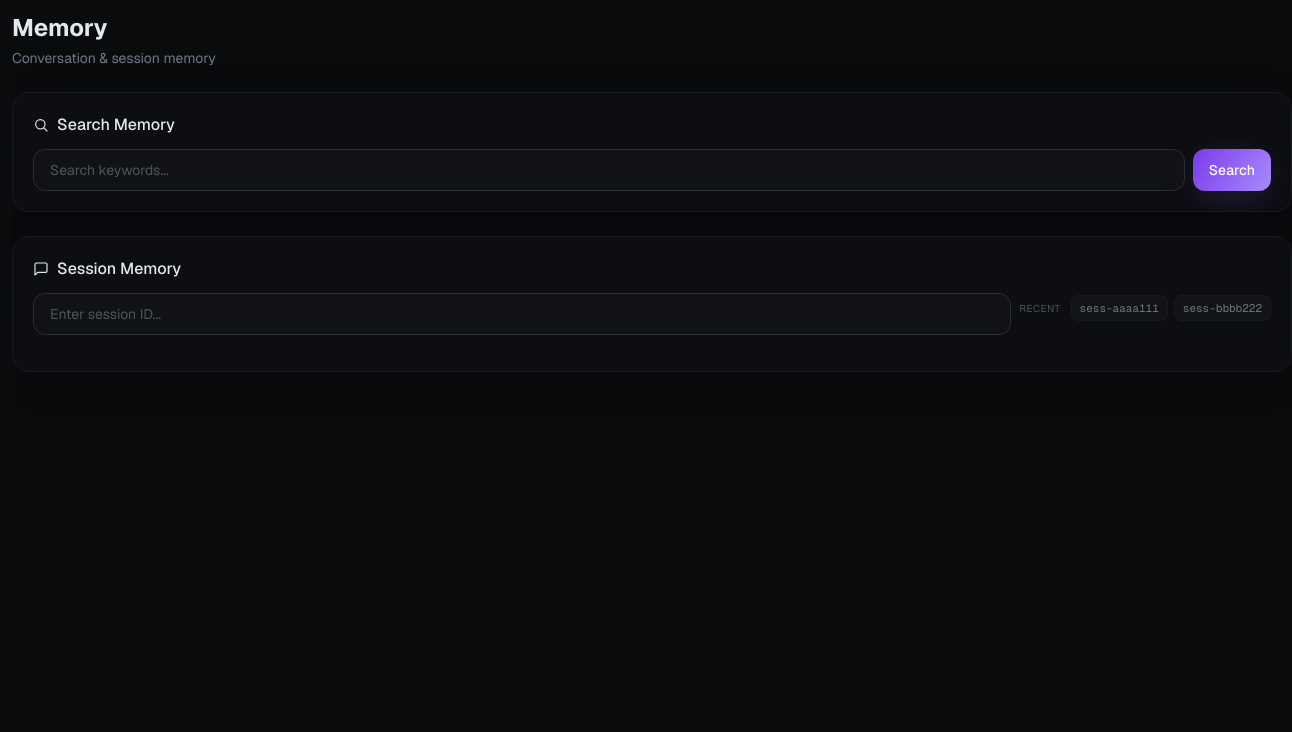
it: Memory › opens a session by clicking its recent chip and shows importance stars
The width and height of the screenshot is (1292, 732).
What coordinates should you click on to do the following:
click the button "sess-aaaa111"
I would click on:
 (1119, 308)
Its box is left=1071, top=295, right=1168, bottom=321.
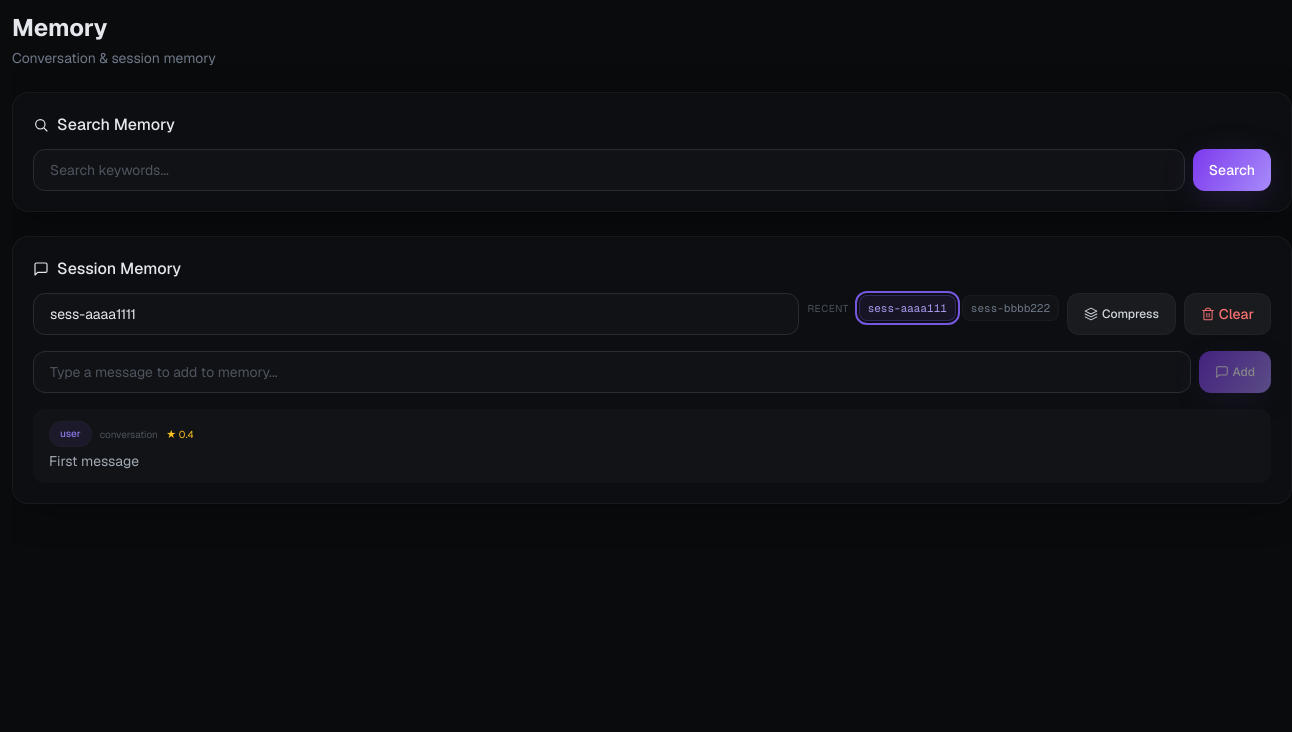
Expected: the text "First message" is shown, left=49, top=452, right=139, bottom=470
Expected: the text "★ 0.4" is shown, left=166, top=426, right=194, bottom=442
